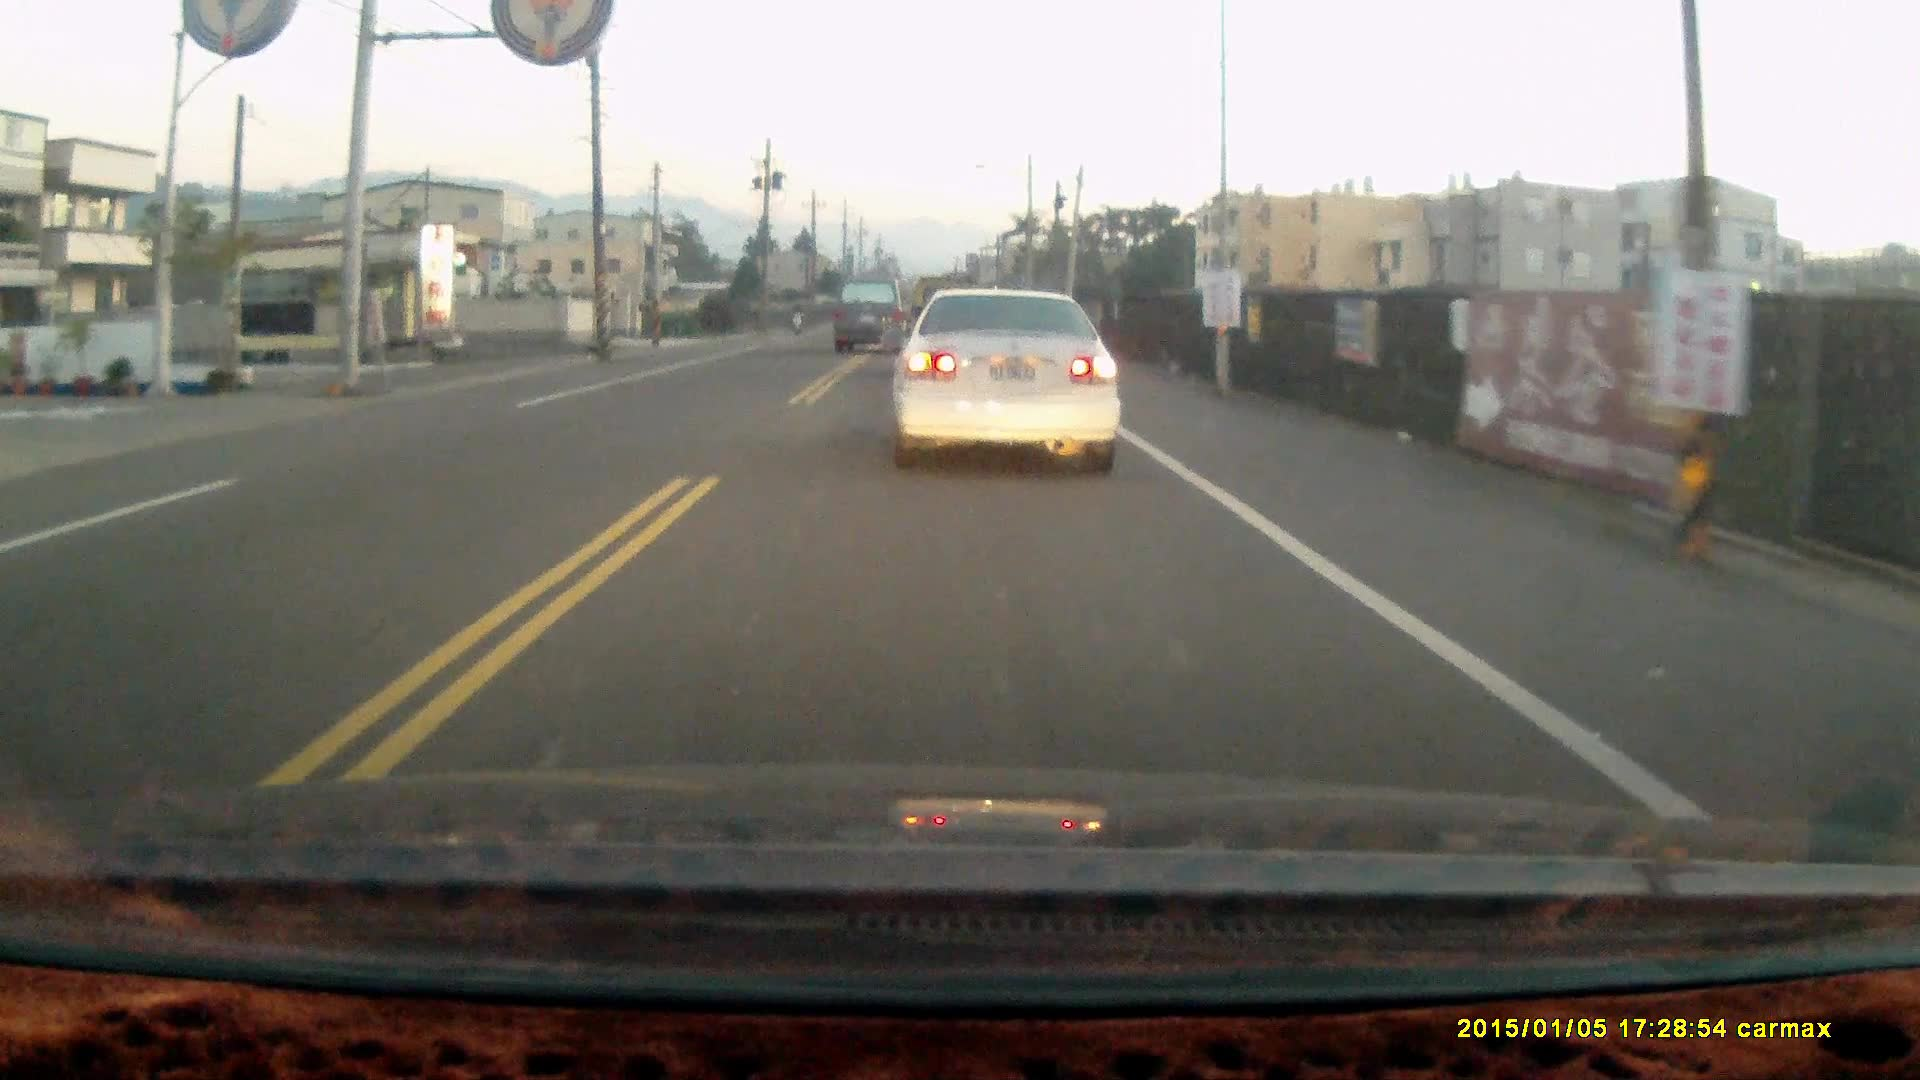rider: (784, 301, 804, 340)
vehicle: (887, 292, 1131, 483), (832, 278, 911, 360)
